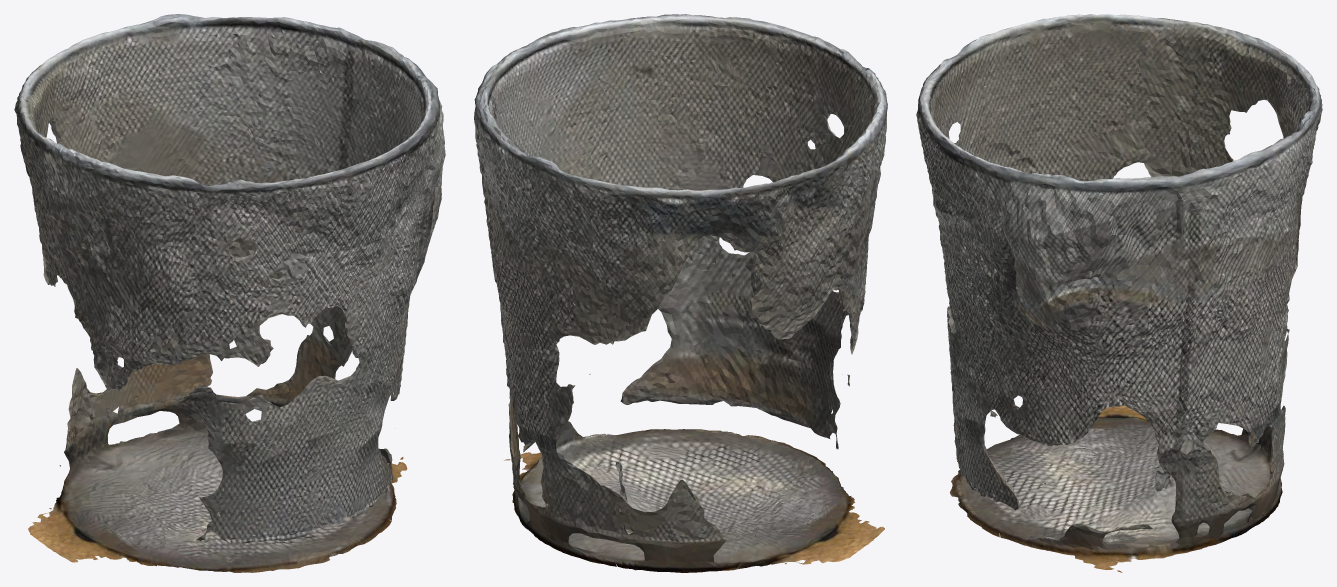
File: Trashcan fine-2048.glb
3 renders of one model, left to right at view 1: azimuth 30°, elevation 25°; view 2: azimuth 150°, elevation 25°; view 3: azimuth 270°, elevation 25°, orthographic. The views are drawn at different scales.
Size of the model in its own units: 0.2668 by 0.281 by 0.2622.
1 material, 1 textured.
